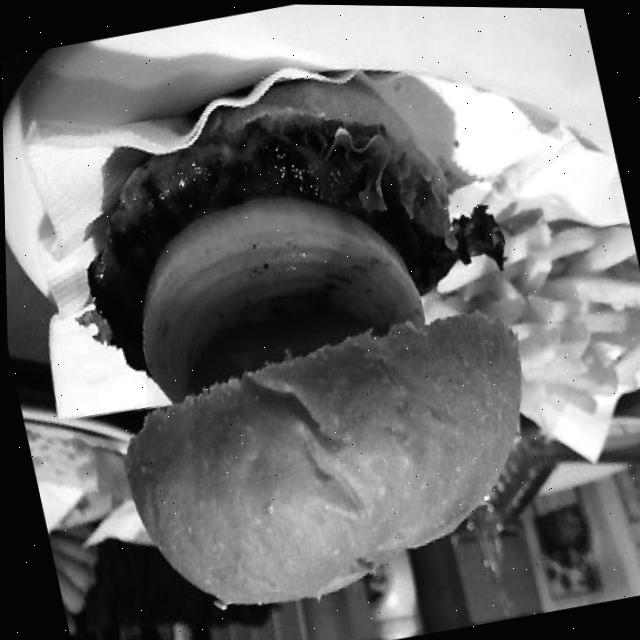汉堡快餐: (27, 31, 569, 640)
炸货点心: (421, 174, 640, 452)
